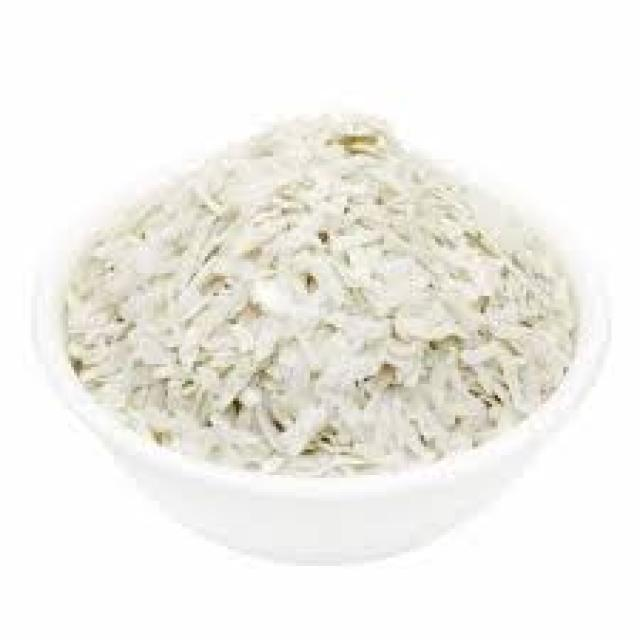POHA: (65, 117, 577, 472)
